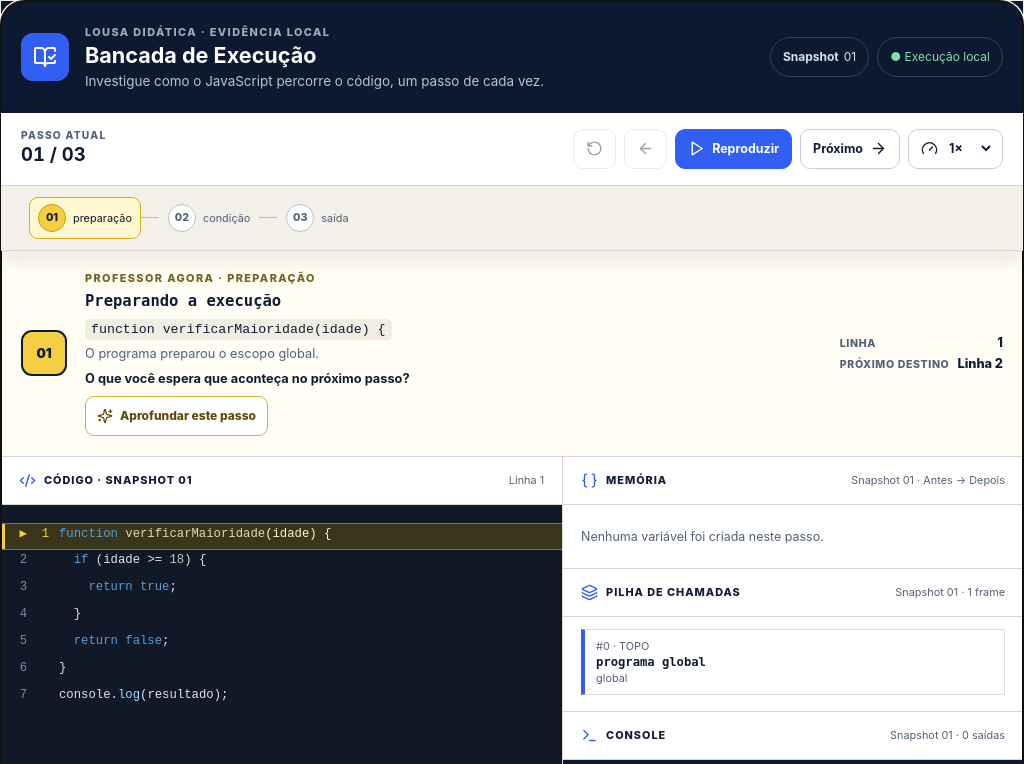
Scenario: Bancada de Execução › aprofunda somente o snapshot atual quando o Tutor é solicitado
Click the button with aria-label "Aprofundar este passo com o Tutor".
click(176, 416)  # box x1=85 y1=396 x2=268 y2=436
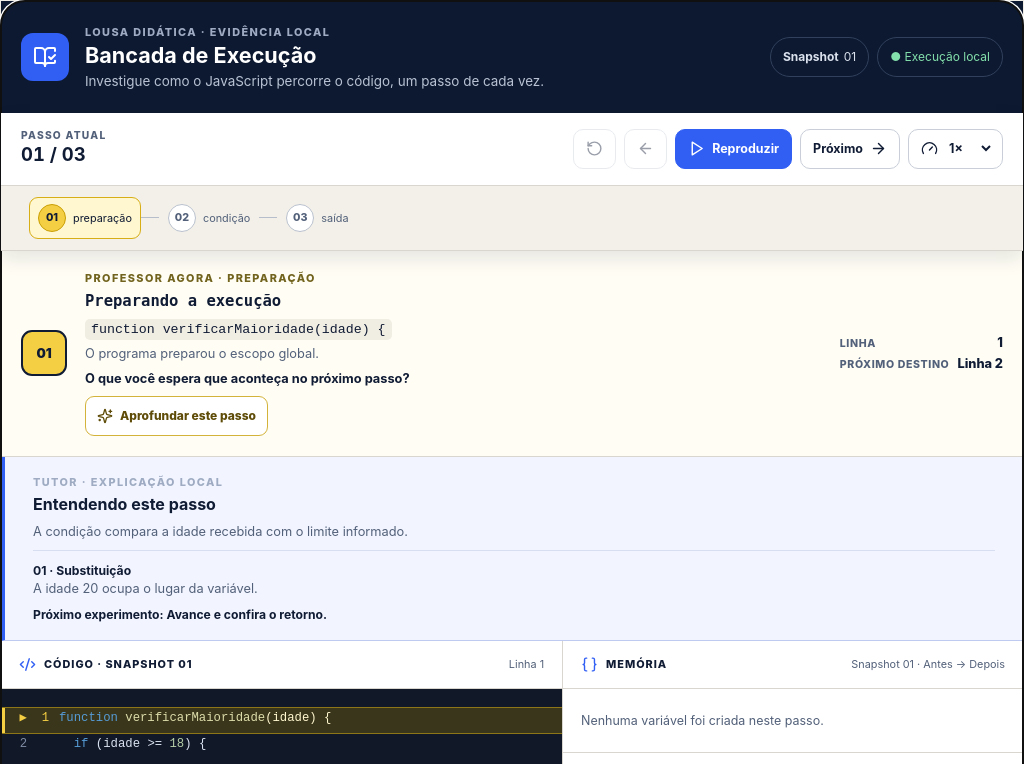
Result: the heading "Entendendo este passo" is shown at x1=33 y1=494 x2=216 y2=514
